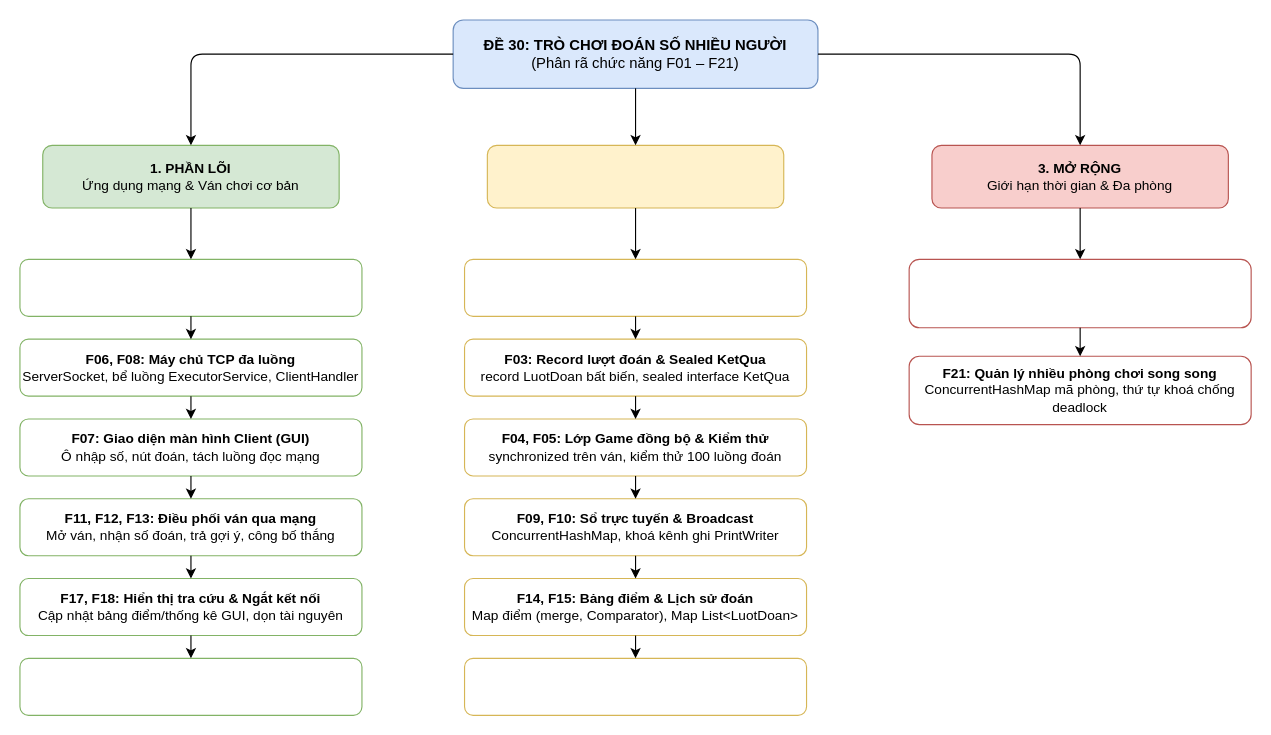
Some shapes in this 1271 by 735 pixel diagram are drawn without their labels. Here are the shapes that lost their labels. From the top down, the box of each, then its label:
(486, 144, 784, 208): 2. PHẢI LÀM Đồng bộ, Mô hình & Dữ liệu Streams
(19, 258, 362, 316): F01: Giao thức lệnh dòng JOIN, GUESS, SCORE, HISTORY, STATS, QUIT
(463, 258, 807, 316): F02: Enum trạng thái & gợi ý TrangThaiVan (WAITING/PLAYING/FINISHED), GoiY
(908, 258, 1251, 328): F20: Giới hạn thời gian mỗi ván ExecutorService, Future, volatile, tự đóng ván
(19, 657, 362, 715): F19: Chế độ đoán lần lượt Xoay vòng lượt đoán bằng hàng đợi ArrayDeque
(463, 657, 807, 715): F16: Thống kê bằng Streams API groupingBy, averagingDouble, IntStream.average
